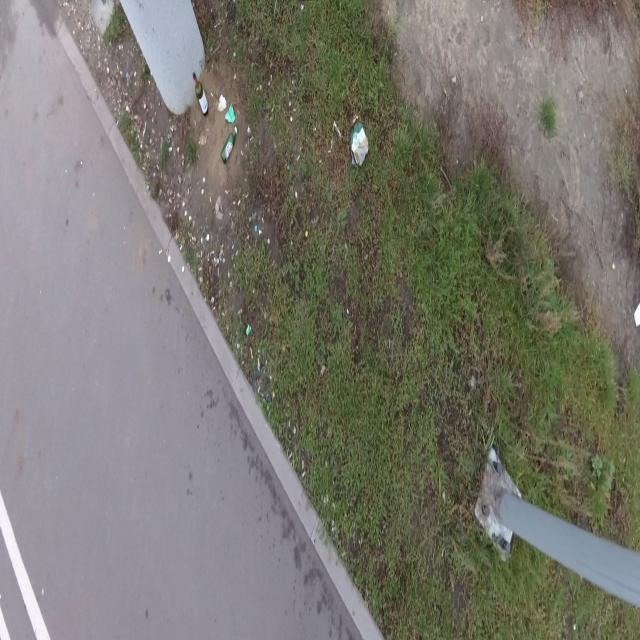rubbish: (349, 119, 369, 169), (193, 72, 209, 116), (220, 123, 237, 162), (225, 105, 235, 122), (219, 94, 228, 109)
